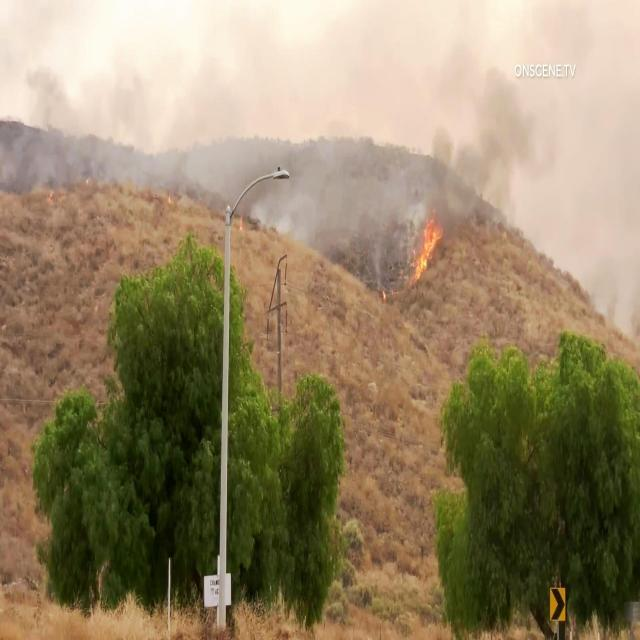Fire: (406, 209, 439, 290)
Smoke: (0, 0, 640, 184), (529, 180, 640, 294), (259, 190, 402, 252)
